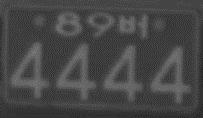4: (148, 45, 192, 104), (54, 41, 97, 101), (8, 40, 50, 99), (102, 43, 143, 103)
8: (55, 9, 81, 38)
9: (86, 10, 114, 39)
버: (118, 13, 148, 41)
